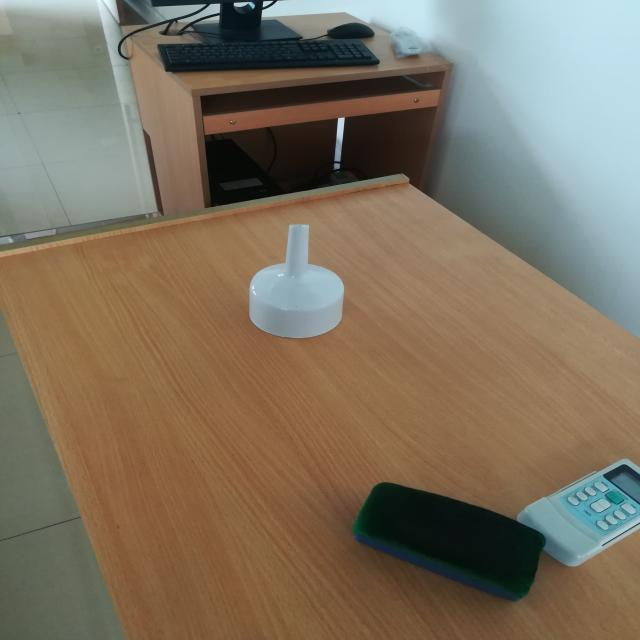Buchner_Funnel: (232, 183, 376, 355)
